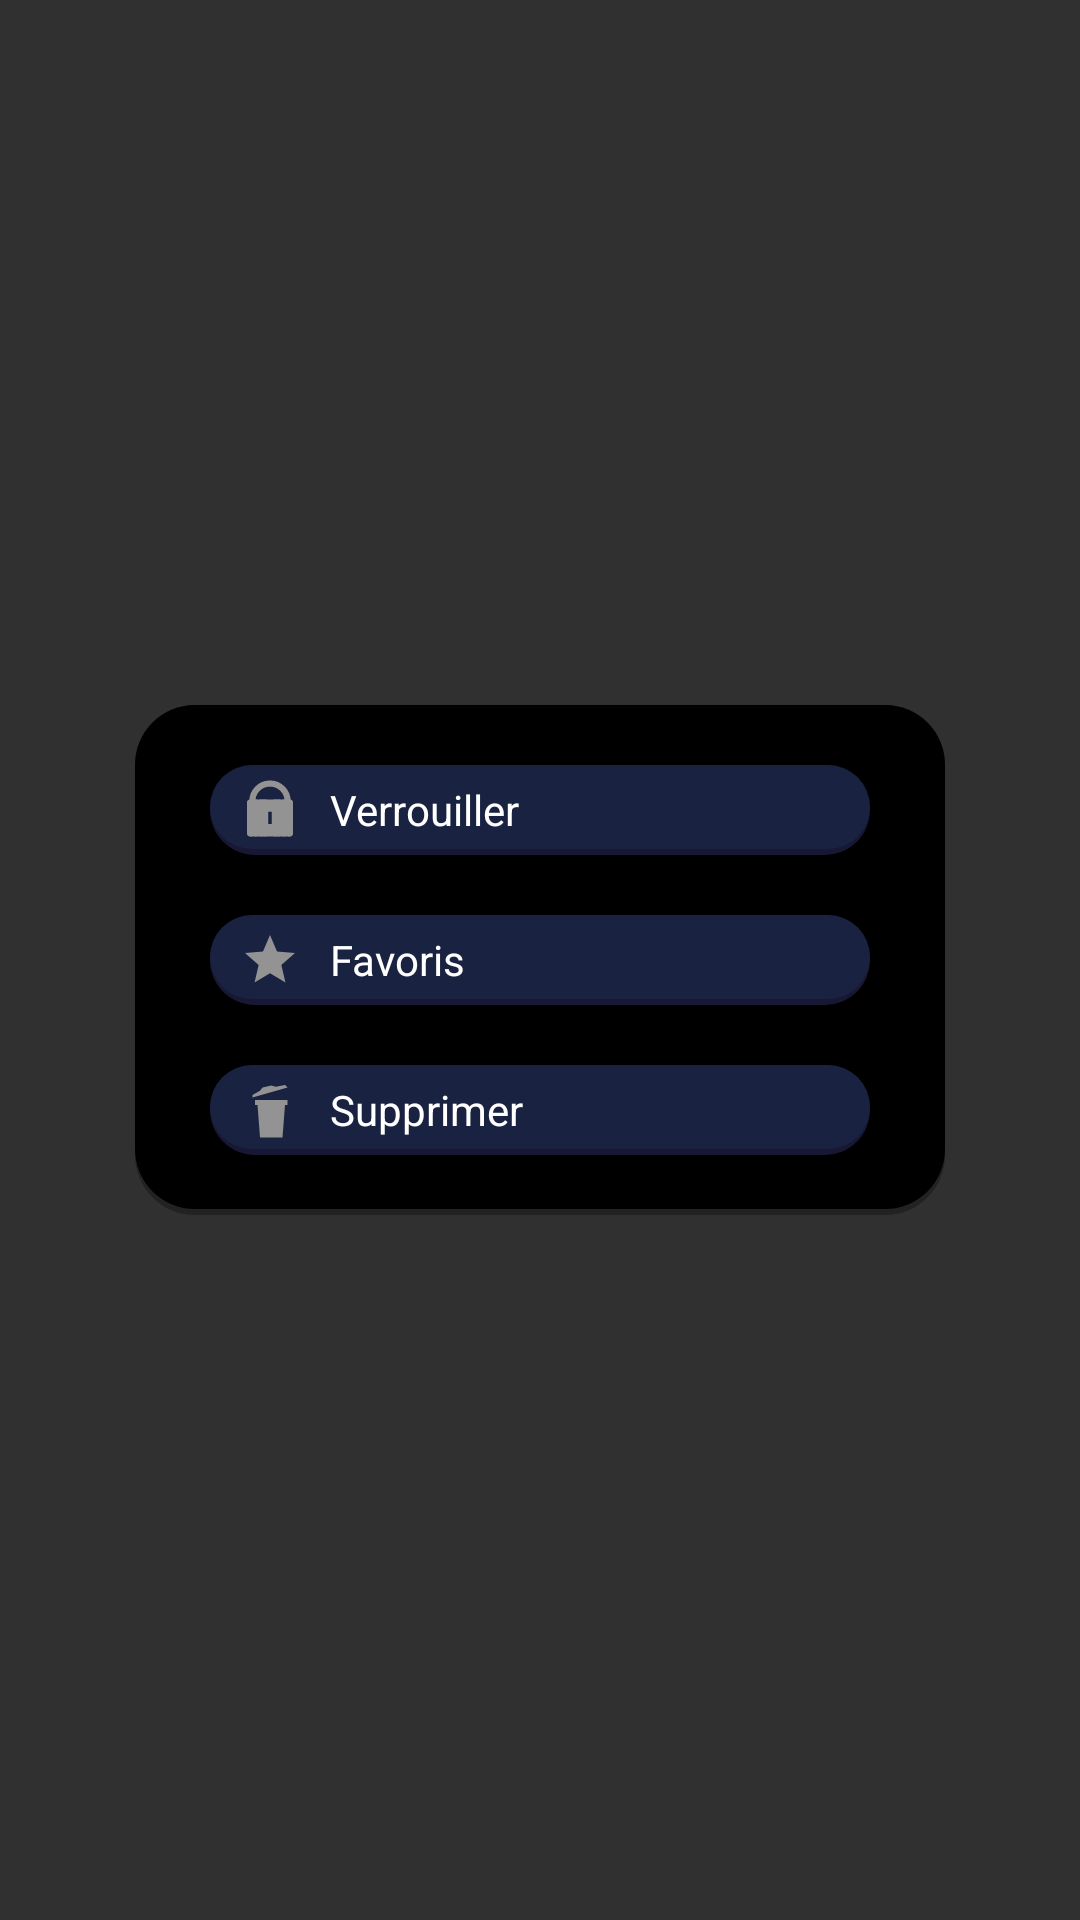

Icon bounding boxes for this 1080 x 1920 phone screenshot, format BBox(x1, y1, x2, y2):
dustbon: BBox(252, 1085, 288, 1138)
favorite: BBox(245, 935, 295, 982)
password: BBox(247, 780, 293, 837)
